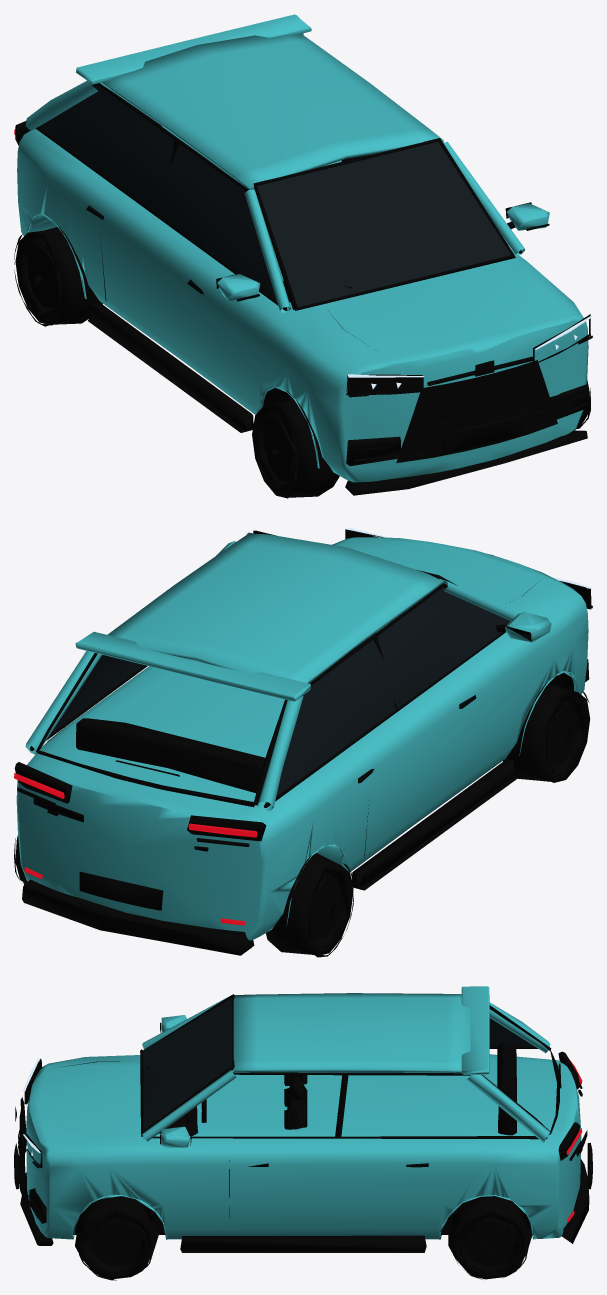
File: axia-far.glb
3 renders of one model, top to bottom at view 1: azimuth 30°, elevation 25°; view 2: azimuth 150°, elevation 25°; view 3: azimuth 270°, elevation 25°, orthographic. The views are drawn at different scales.
Visible parts, largest first — view 1: chassis.001__Automotive clearcoat, chassis.001__Solar glass, chassis.001__Vehicle detail atlas, wheel_RL.001__Vehicle detail atlas, wheel_FL.001__Vehicle detail atlas; view 2: chassis.001__Automotive clearcoat, chassis.001__Vehicle detail atlas, chassis.001__Solar glass, wheel_RL.001__Vehicle detail atlas, wheel_FL.001__Vehicle detail atlas, chassis.001__Red LED optics; view 3: chassis.001__Automotive clearcoat, chassis.001__Vehicle detail atlas, chassis.001__Solar glass, wheel_RR.001__Vehicle detail atlas, wheel_FR.001__Vehicle detail atlas.
Part boxes in pixels (x1,y1,x2,y2): chassis.001__Automotive clearcoat: (17, 14, 588, 482); chassis.001__Solar glass: (39, 85, 511, 307); chassis.001__Vehicle detail atlas: (15, 83, 590, 495); wheel_RL.001__Vehicle detail atlas: (14, 226, 102, 326); wheel_FL.001__Vehicle detail atlas: (252, 398, 339, 498); chassis.001__Automotive clearcoat: (16, 532, 588, 940); chassis.001__Vehicle detail atlas: (14, 529, 591, 955); chassis.001__Solar glass: (51, 587, 510, 802); wheel_RL.001__Vehicle detail atlas: (266, 852, 353, 957); wheel_FL.001__Vehicle detail atlas: (503, 684, 590, 782); chassis.001__Red LED optics: (14, 773, 257, 925); chassis.001__Automotive clearcoat: (26, 986, 581, 1239); chassis.001__Vehicle detail atlas: (14, 994, 592, 1252); chassis.001__Solar glass: (143, 997, 533, 1131); wheel_RR.001__Vehicle detail atlas: (448, 1196, 532, 1279); wheel_FR.001__Vehicle detail atlas: (75, 1196, 158, 1280).
Bounding box in the file's own units: 1.98 × 1.51 × 3.91.
8 materials, 6 textured.
